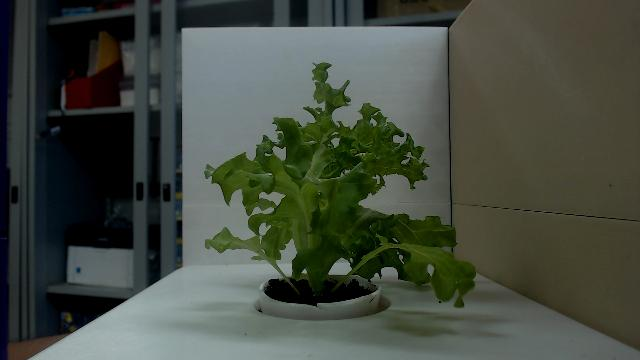Harvest Stage: (204, 61, 476, 308)
